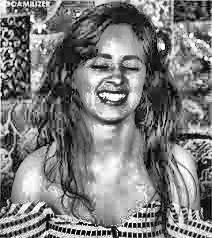happy: (63, 9, 162, 135)
